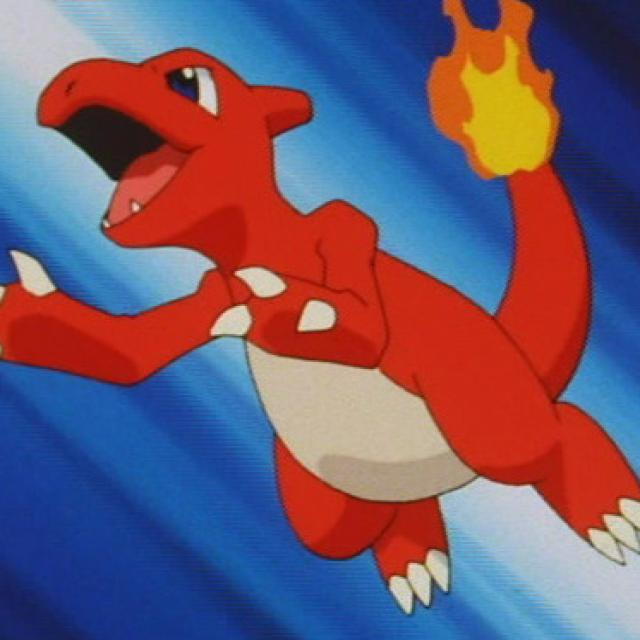Charmeleon: (22, 49, 569, 543)
